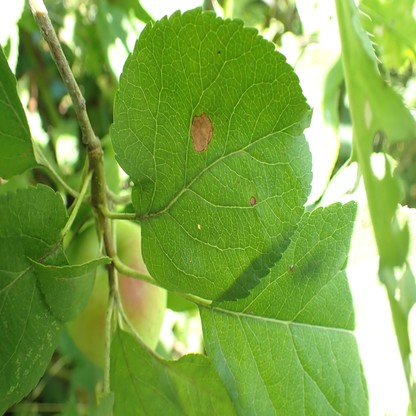frogeye_leaf_spot: (190, 113, 215, 151), (250, 195, 257, 206)
